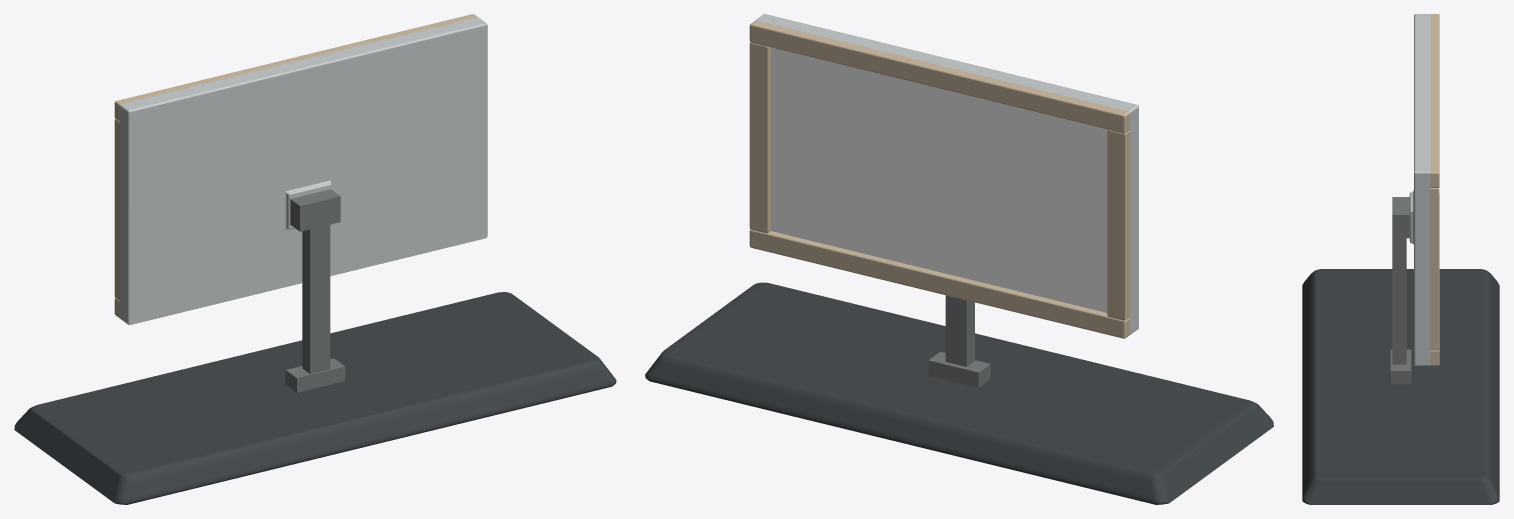
3 renders of one model, left to right at view 1: azimuth 30°, elevation 25°; view 2: azimuth 150°, elevation 25°; view 3: azimuth 270°, elevation 25°, orthographic. The views are drawn at different scales.
Parts seen in each view (by area): view 1: monitor_body_bezel, base_stand, pedestal_arm; view 2: base_stand, display_surface, monitor_body_bezel, pedestal_arm; view 3: base_stand, monitor_body_bezel, pedestal_arm.
Part boxes in pixels (x1,y1,x2,y2): monitor_body_bezel: (114,14,487,324); base_stand: (14,292,616,504); pedestal_arm: (285,189,345,392); base_stand: (645,282,1273,504); display_surface: (771,47,1107,312); monitor_body_bezel: (749,14,1138,338); pedestal_arm: (928,295,990,387); base_stand: (1302,269,1499,504); monitor_body_bezel: (1409,14,1439,365); pedestal_arm: (1390,197,1411,384).
Bounding box in the file's own units: 8.94 × 5.68 × 3.36.
